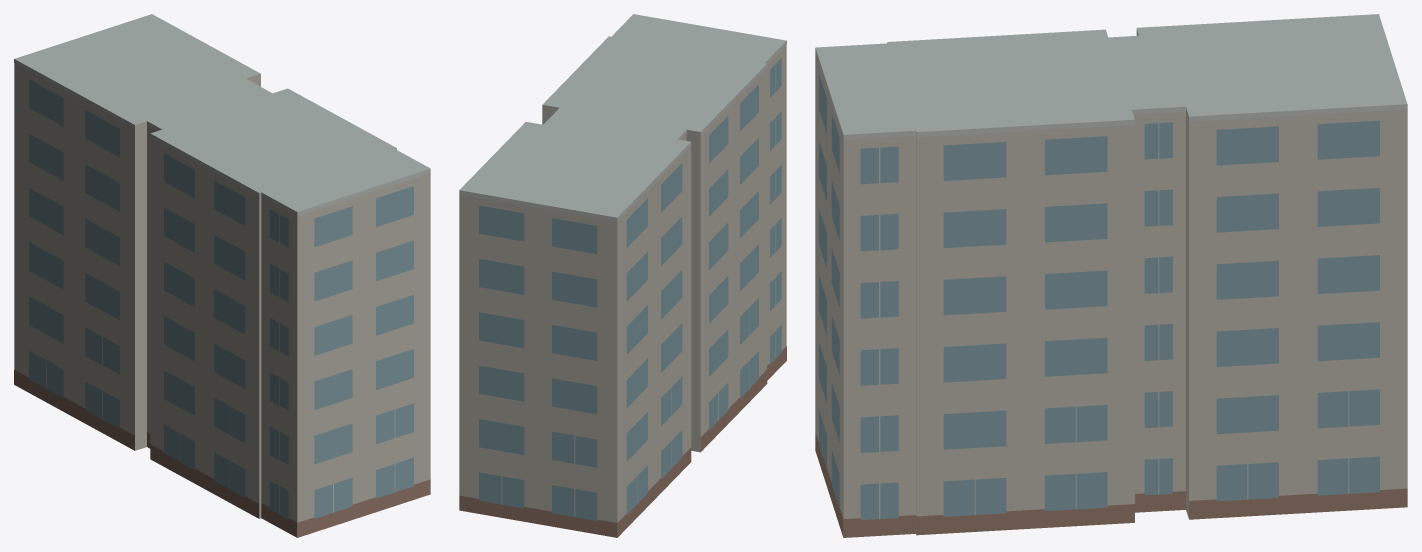
File: survey-upis-32746522.glb
3 renders of one model, left to right at view 1: azimuth 30°, elevation 25°; view 2: azimuth 150°, elevation 25°; view 3: azimuth 270°, elevation 25°, orthographic. The views are drawn at different scales.
Parts seen in each view (by area): view 1: survey-upis-32746522.tmp; view 2: survey-upis-32746522.tmp; view 3: survey-upis-32746522.tmp.
Boxes of the visible parts, <box> form: survey-upis-32746522.tmp: <box>14,14,430,537</box>; survey-upis-32746522.tmp: <box>459,14,786,537</box>; survey-upis-32746522.tmp: <box>815,14,1407,537</box>.
Size of the model in its own units: 12.09 by 18.8 by 25.04.
